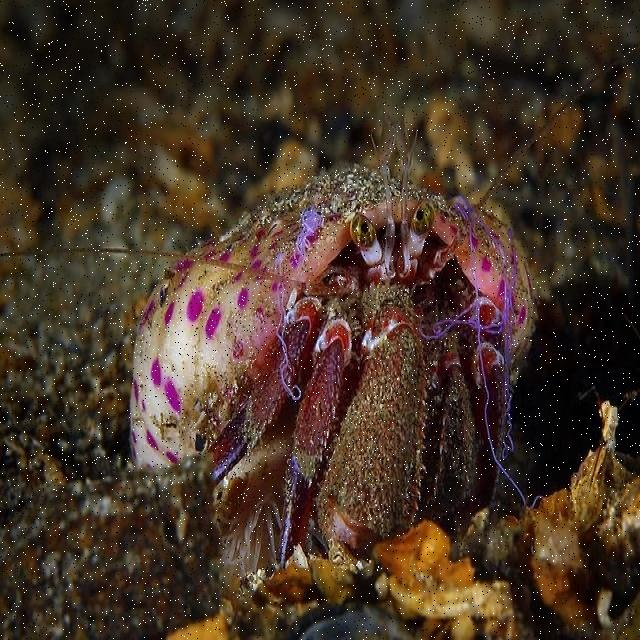reefs: (0, 53, 624, 576)
